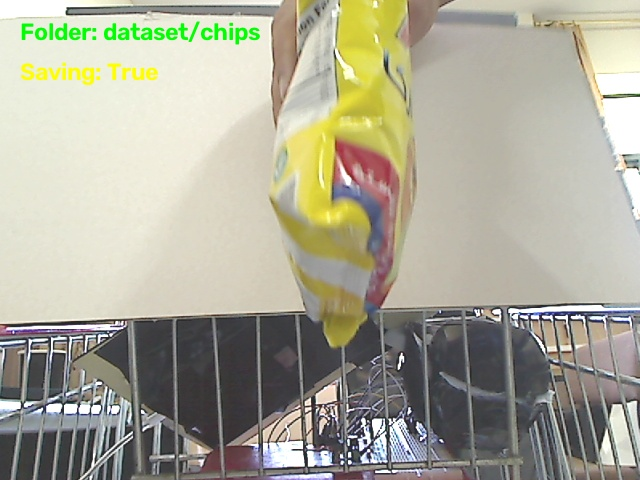chips: (270, 0, 415, 346)
